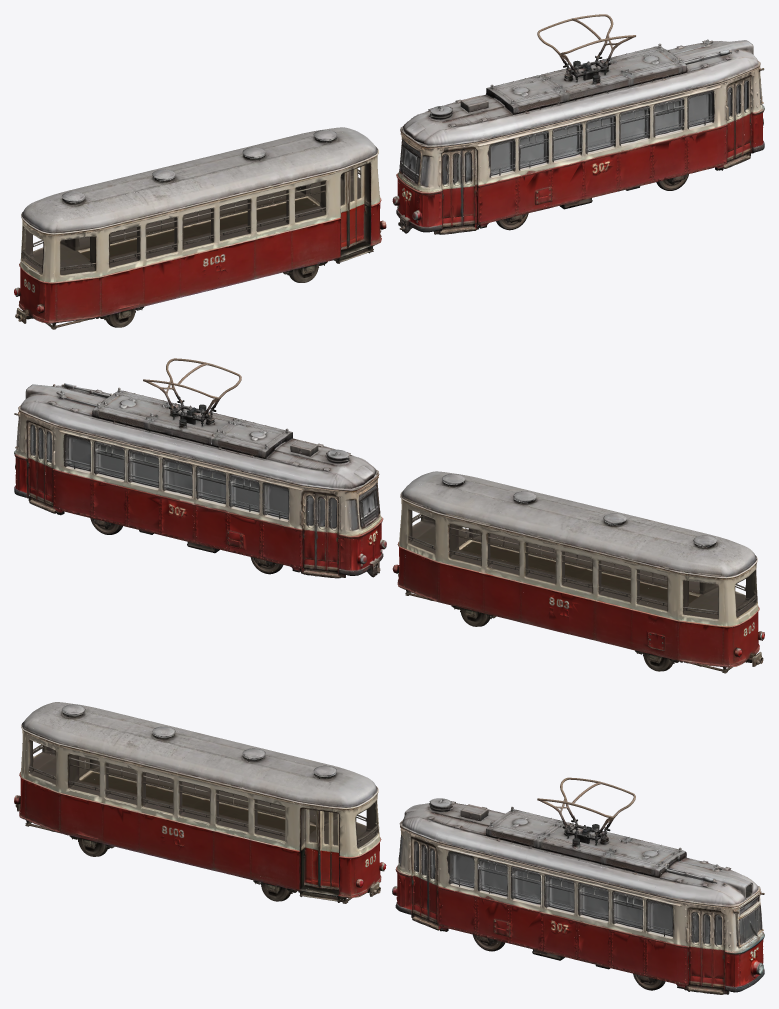
File: lowa_et54.glb
3 renders of one model, top to bottom at view 1: azimuth 30°, elevation 25°; view 2: azimuth 150°, elevation 25°; view 3: azimuth 330°, elevation 25°, orthographic.
Visible parts, largest first — view 1: LOWA_ET54, LOWA_EB54; view 2: LOWA_ET54, LOWA_EB54; view 3: LOWA_ET54, LOWA_EB54.
Part boxes in pixels (<box>): LOWA_ET54: <box>392,14,764,234</box>; LOWA_EB54: <box>14,127,386,329</box>; LOWA_ET54: <box>14,358,386,578</box>; LOWA_EB54: <box>392,471,764,673</box>; LOWA_ET54: <box>392,777,764,994</box>; LOWA_EB54: <box>14,702,386,903</box>.
Size of the model in its own units: 22.2 by 4.97 by 2.2.
2 materials, 2 textured.
